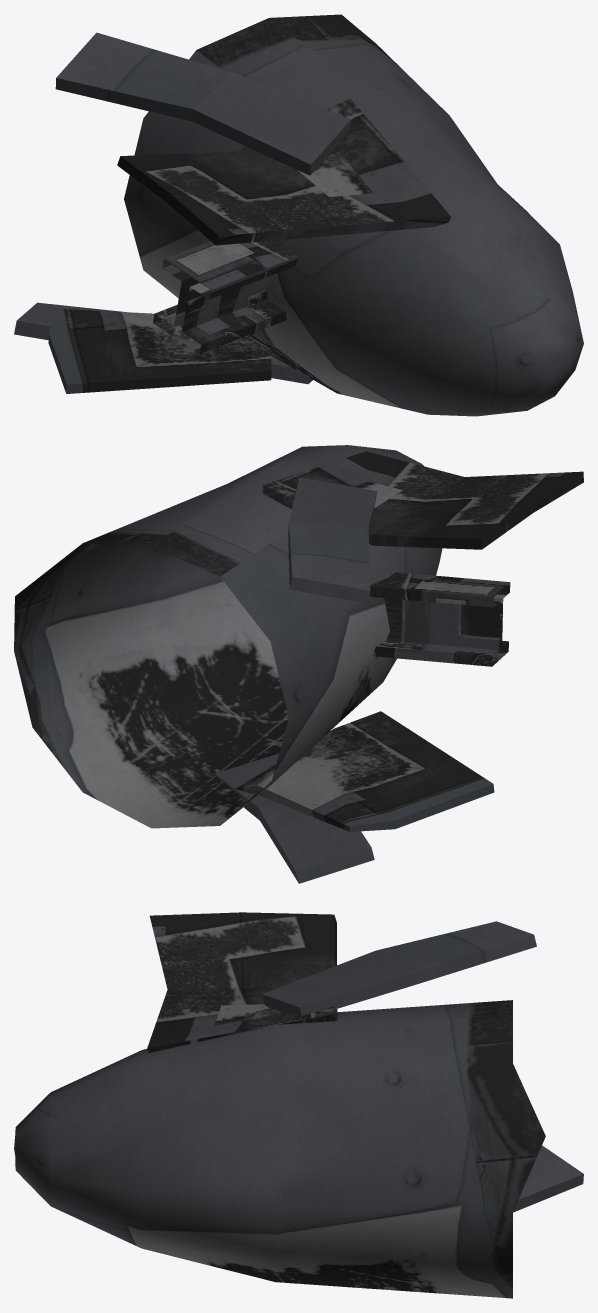
The model's file is HCD1.fbx.
3 views of the same model, one above another, from view 1: azimuth 30°, elevation 25°; view 2: azimuth 150°, elevation 25°; view 3: azimuth 270°, elevation 25° (orthographic). The views are drawn at different scales.
Parts seen in each view (by area): view 1: oneD; view 2: oneD; view 3: oneD.
Boxes of the visible parts, x1,y1,x2,y2 form: oneD: (14, 14, 583, 416); oneD: (14, 445, 583, 883); oneD: (14, 912, 583, 1298).
Size of the model in its own units: 4823 by 3401 by 6228.
Materials: 1 (1 with a texture image).
